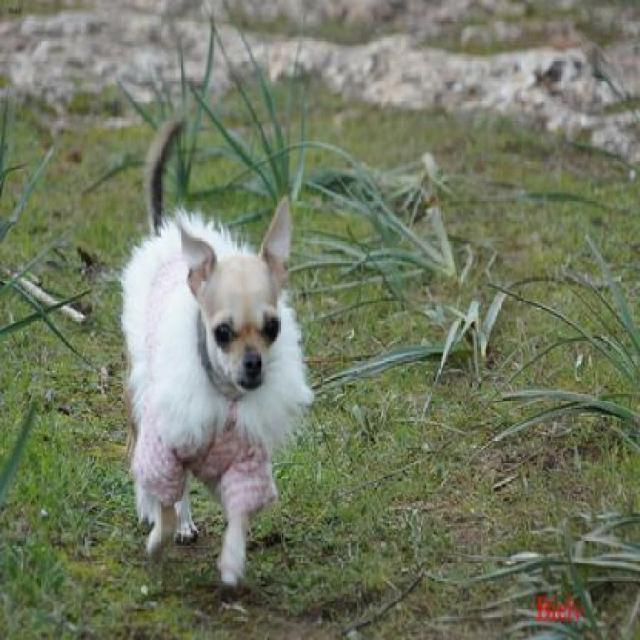Dog: (120, 106, 314, 591)
